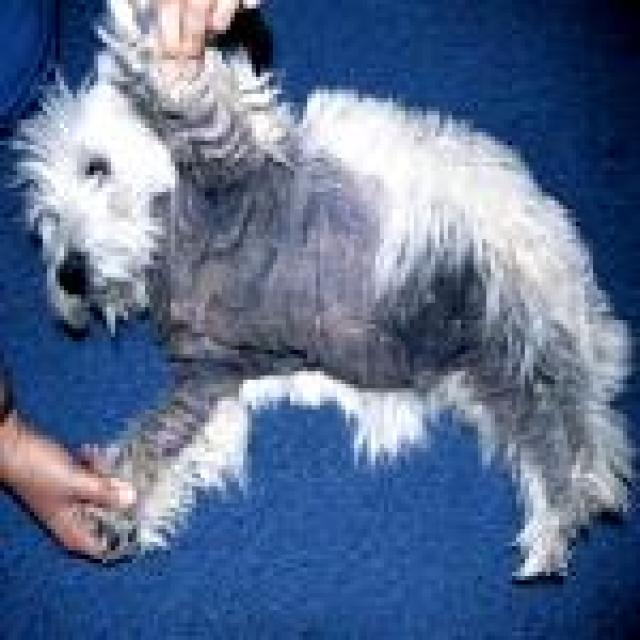fungal infection: (156, 292, 254, 362), (304, 185, 382, 243), (308, 291, 382, 350), (195, 178, 248, 208)
